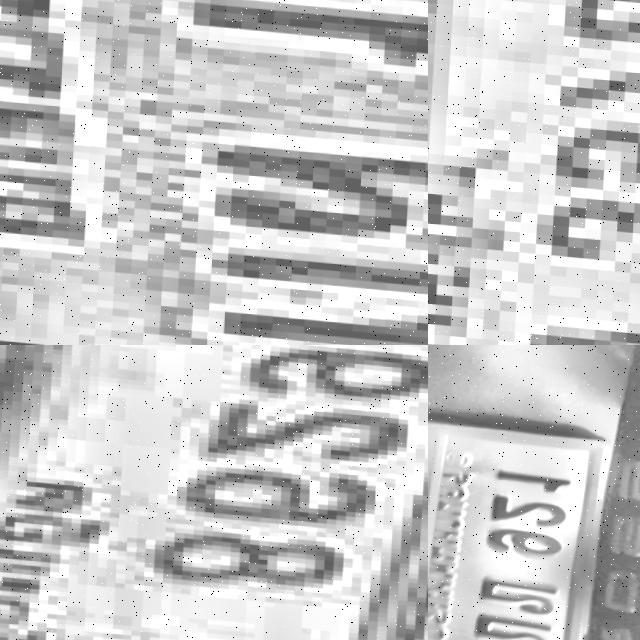license-plate: (0, 0, 428, 345), (0, 345, 428, 640), (428, 0, 640, 345), (428, 409, 607, 640)
